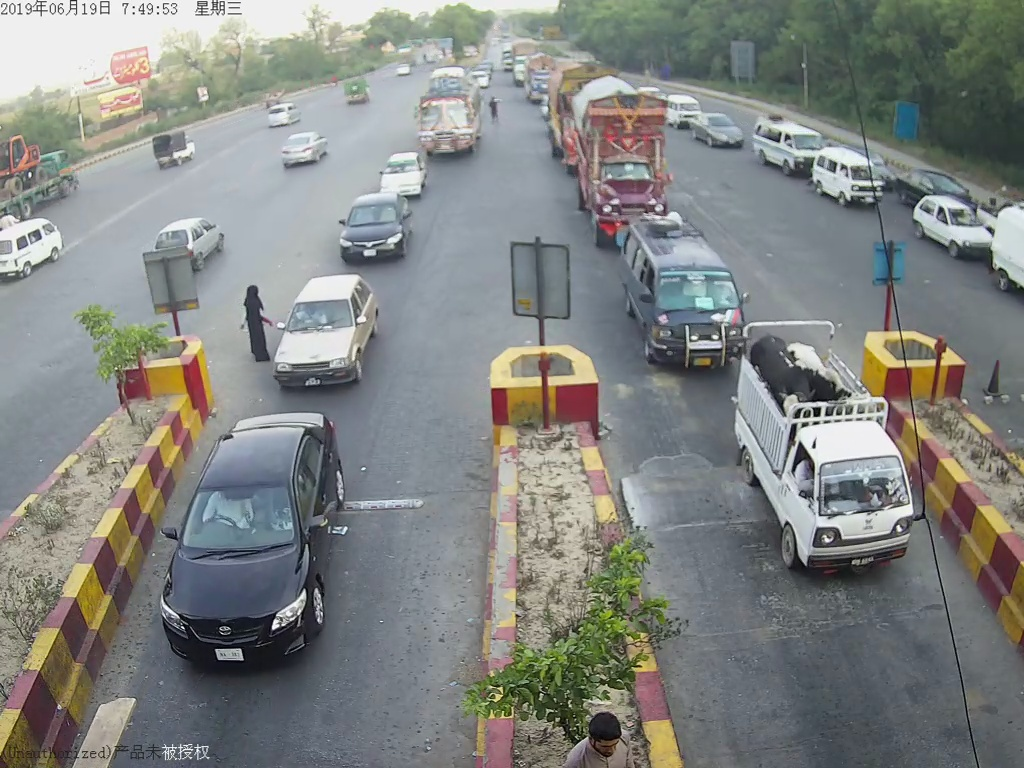Cat-1: (148, 406, 357, 672), (732, 312, 917, 572), (264, 265, 383, 388), (333, 196, 412, 265)
Cat-2: (614, 209, 747, 369)
Cat-3: (414, 67, 485, 160)
Cat-4: (568, 72, 674, 234)
